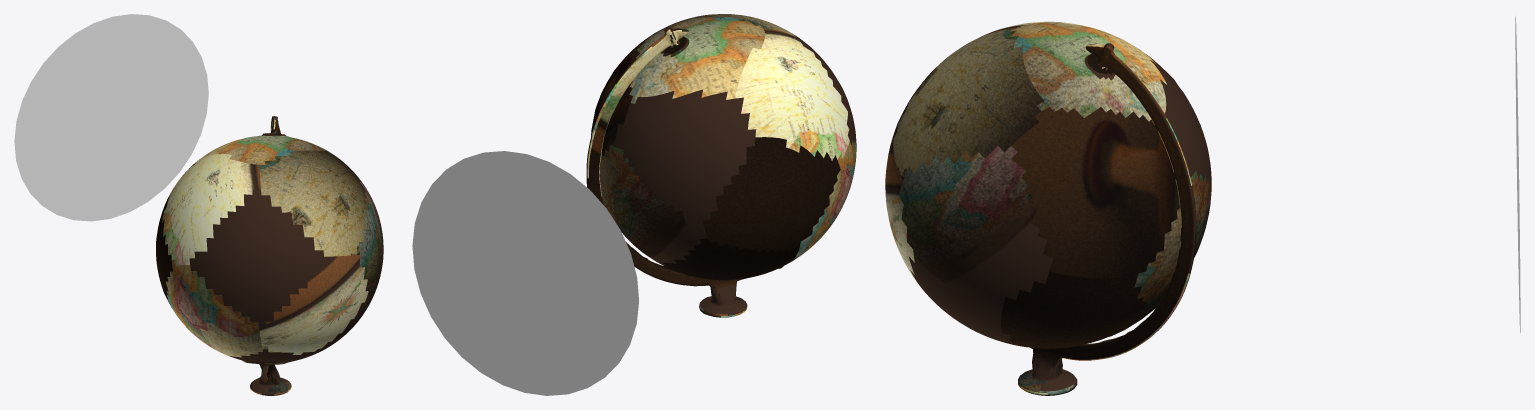
The model's file is globe.obj.
3 renders of one model, left to right at view 1: azimuth 30°, elevation 25°; view 2: azimuth 150°, elevation 25°; view 3: azimuth 270°, elevation 25°, orthographic. The views are drawn at different scales.
Parts seen in each view (by area): view 1: Globe_Retopo_Karttapallo_high_sculpted_fixed_mesh, Light; view 2: Globe_Retopo_Karttapallo_high_sculpted_fixed_mesh, Light; view 3: Globe_Retopo_Karttapallo_high_sculpted_fixed_mesh, Light.
Part boxes in pixels (x1,y1,x2,y2): Globe_Retopo_Karttapallo_high_sculpted_fixed_mesh: (156,116,383,395); Light: (14,14,208,221); Globe_Retopo_Karttapallo_high_sculpted_fixed_mesh: (586,14,856,317); Light: (412,151,638,395); Globe_Retopo_Karttapallo_high_sculpted_fixed_mesh: (885,21,1211,395); Light: (1515,16,1520,333).
Size of what is drawn, in the model's own units: 6.66 by 7.91 by 12.7.
